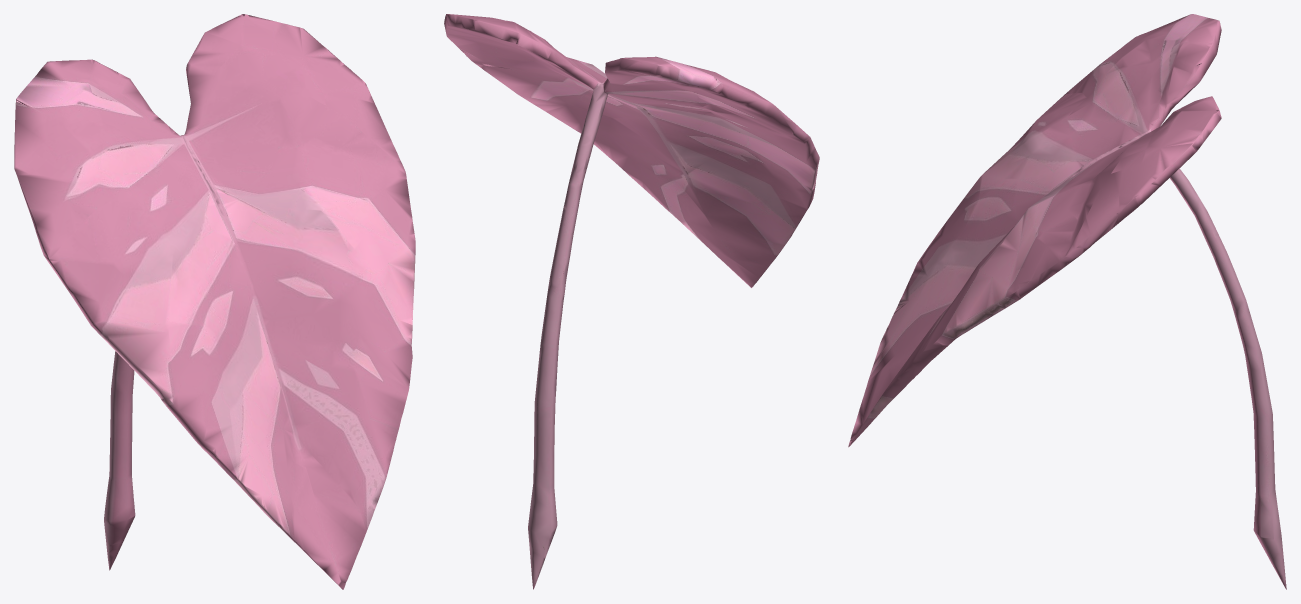
The model's file is pp_leaf_mid_allpink.glb.
The picture shows the model from 3 angles, left to right: view 1: azimuth 30°, elevation 25°; view 2: azimuth 150°, elevation 25°; view 3: azimuth 270°, elevation 25°; orthographic projection. The views are drawn at different scales.
Bounding box in the file's own units: 1.27 × 1.9 × 1.44.
Materials: 1 (1 with a texture image).
